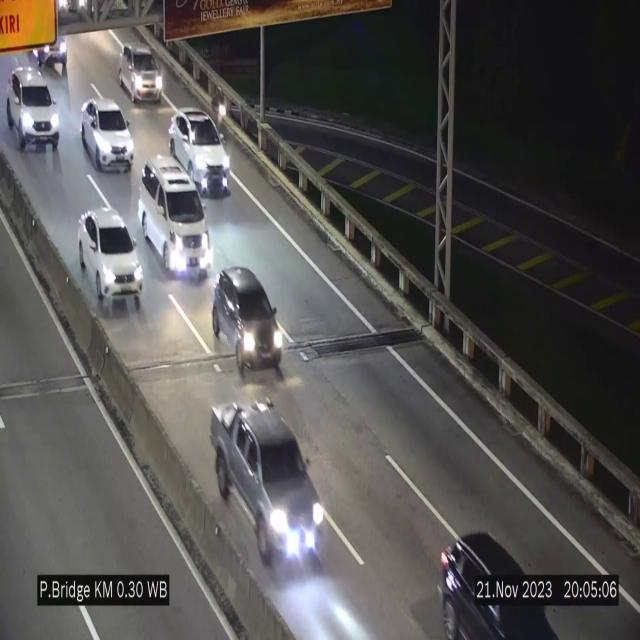Car: (211, 402, 326, 572), (434, 529, 562, 640), (138, 157, 210, 278), (212, 263, 284, 376), (77, 207, 143, 313), (169, 110, 230, 195), (7, 68, 59, 150), (81, 99, 134, 171), (119, 43, 162, 102), (30, 32, 72, 68)
